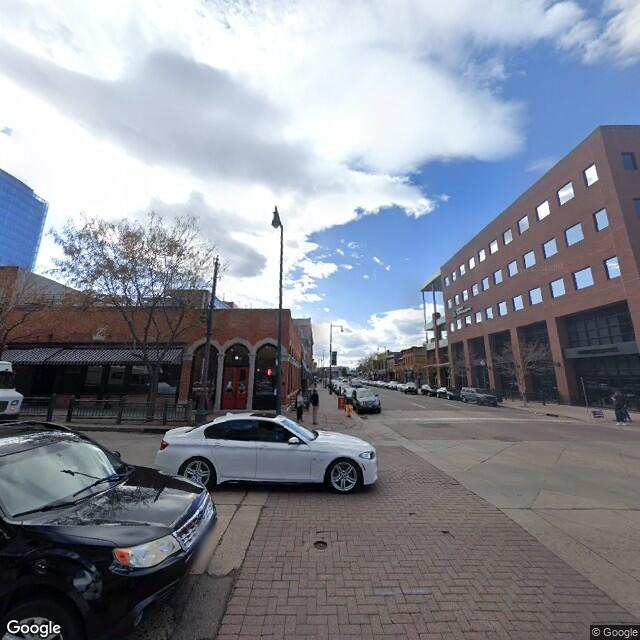fh: (344, 405, 355, 420)
lamp: (268, 200, 289, 409)
